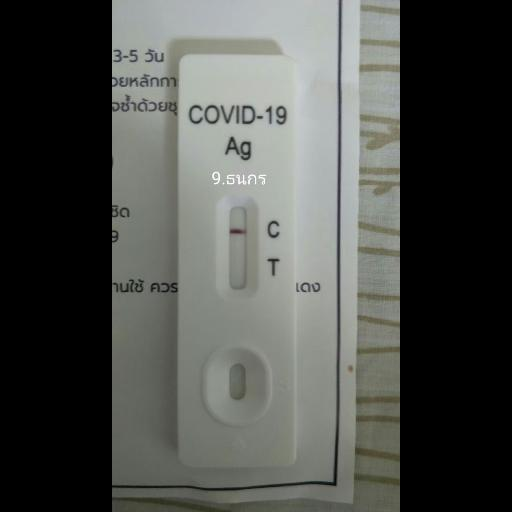Neg: (179, 54, 295, 466)
